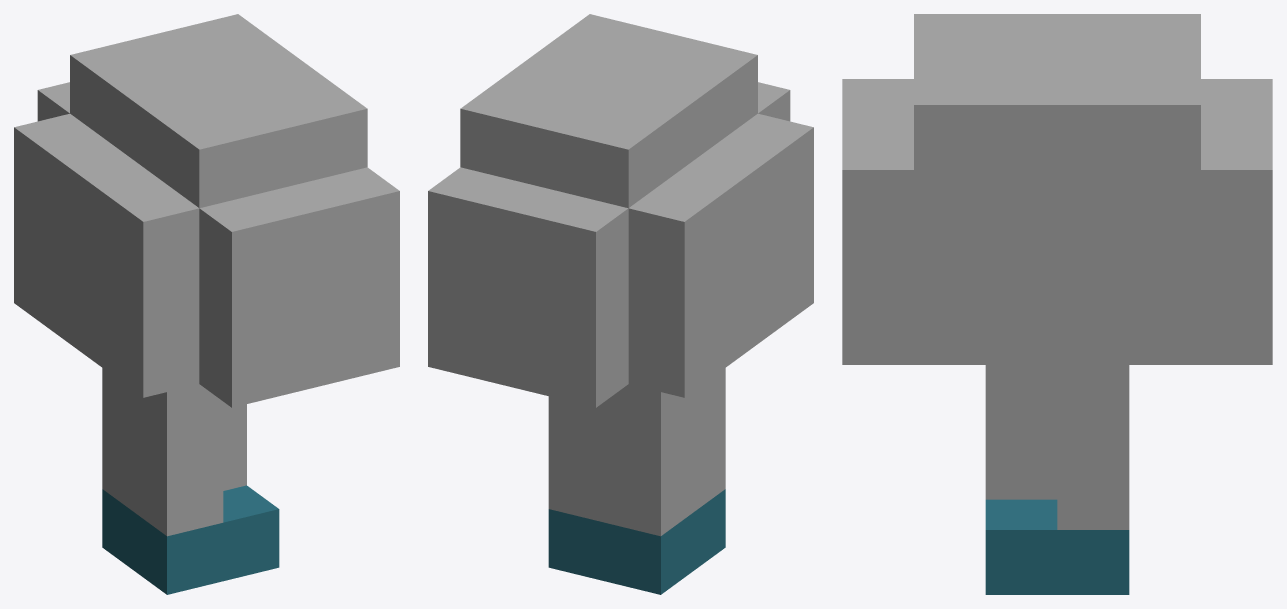
Rendered from PlayerOrange-3-Player_RArm.obj.
3 views of the same model, side by side, from view 1: azimuth 30°, elevation 25°; view 2: azimuth 150°, elevation 25°; view 3: azimuth 270°, elevation 25° (orthographic). The views are drawn at different scales.
Parts seen in each view (by area): view 1: Player_RArm; view 2: Player_RArm; view 3: Player_RArm.
Boxes of the visible parts, <box> form: Player_RArm: <box>14,14,399,594</box>; Player_RArm: <box>428,14,813,594</box>; Player_RArm: <box>842,14,1272,594</box>.
Size of the model in its own units: 0.8 by 1.6 by 1.2.
1 material, 1 textured.
